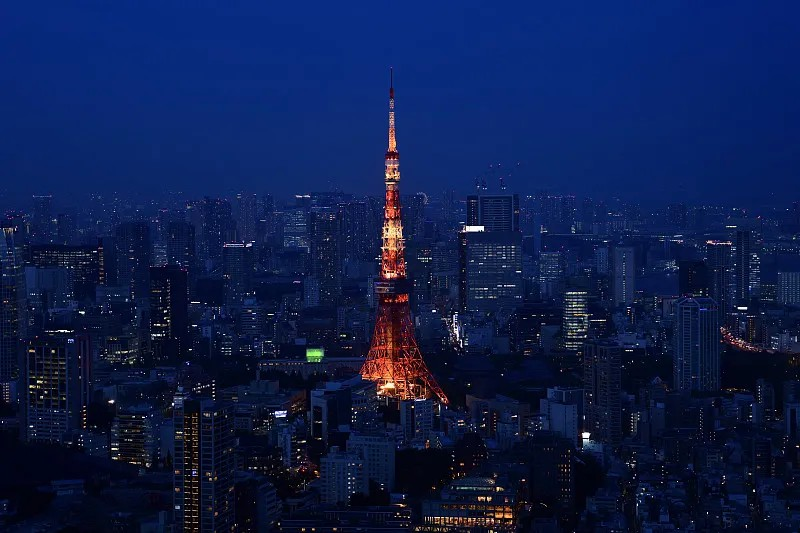Tokyo: (359, 65, 448, 410)
